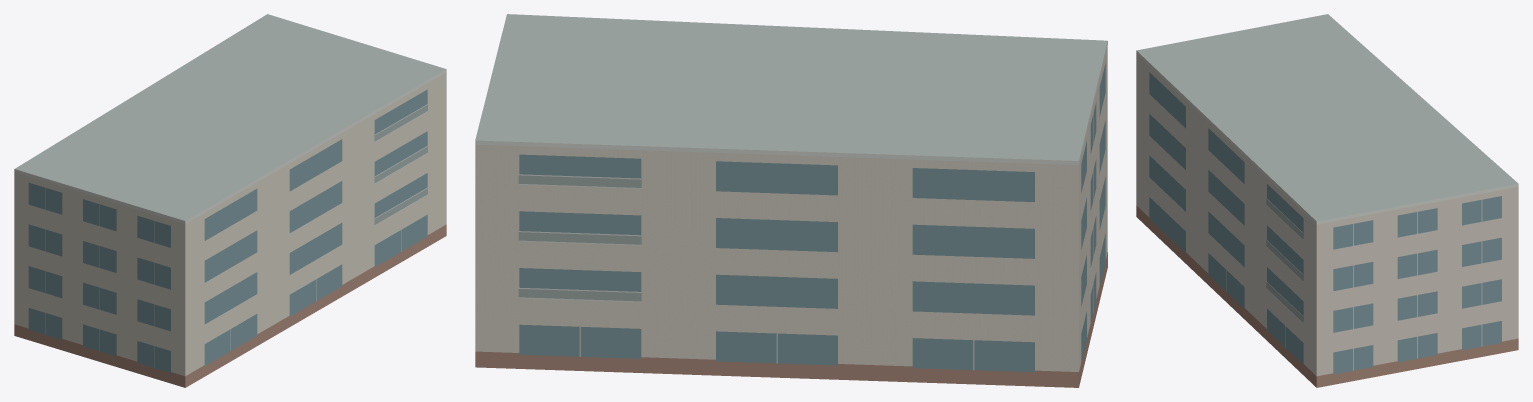
File: survey-upis-32812954.glb
3 renders of one model, left to right at view 1: azimuth 30°, elevation 25°; view 2: azimuth 150°, elevation 25°; view 3: azimuth 270°, elevation 25°, orthographic. The views are drawn at different scales.
Visible parts, largest first — view 1: survey-upis-32812954.tmp; view 2: survey-upis-32812954.tmp; view 3: survey-upis-32812954.tmp.
Boxes of the visible parts, x1,y1,x2,y2 form: survey-upis-32812954.tmp: [14, 14, 446, 387]; survey-upis-32812954.tmp: [475, 14, 1107, 387]; survey-upis-32812954.tmp: [1136, 14, 1518, 387].
Bounding box in the file's own units: 35.3 × 13.2 × 27.48.
